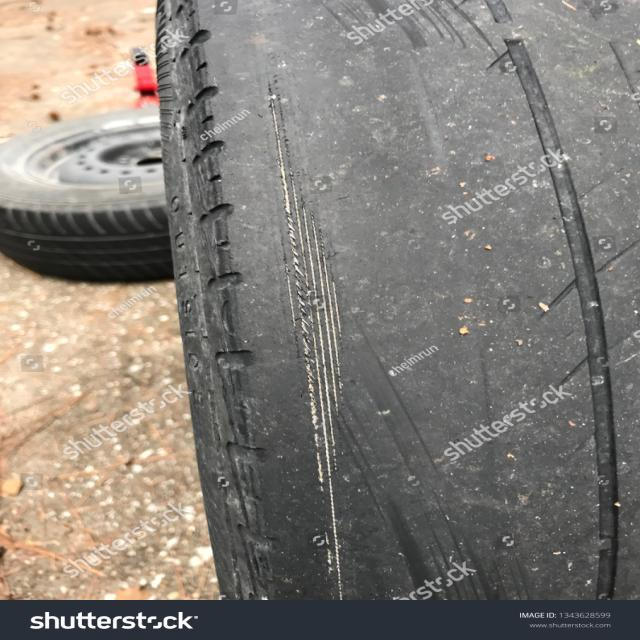Flat spots: (198, 0, 628, 592)
